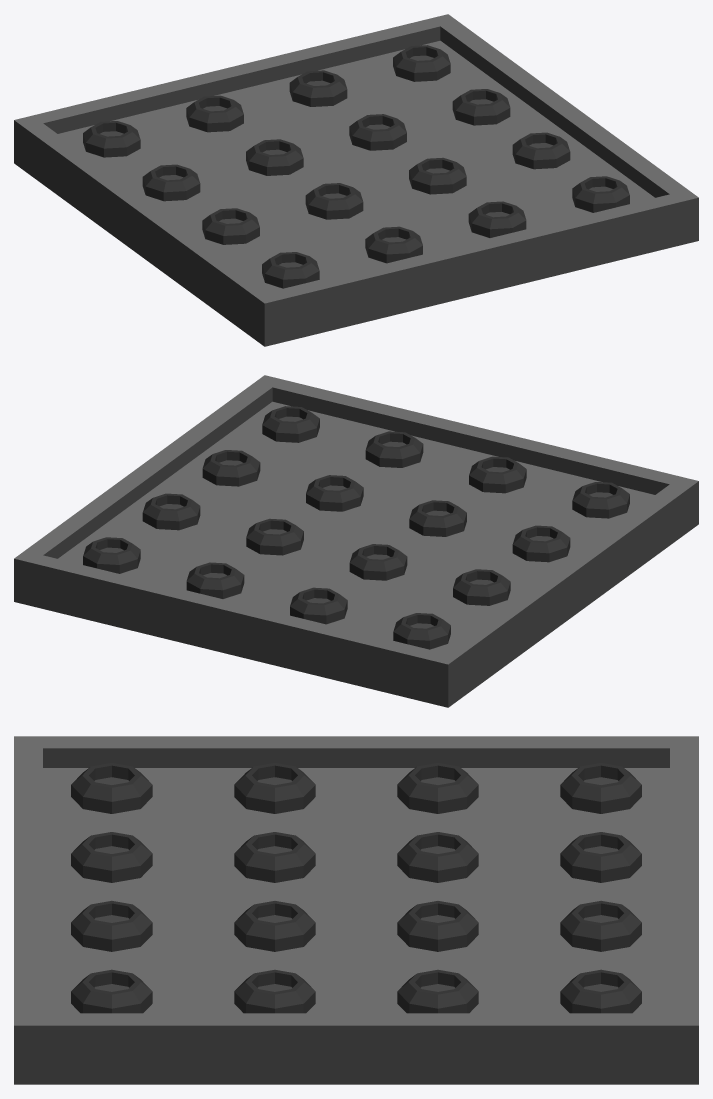
File: trapSpikes_type_01.fbx
3 views of the same model, one above another, from view 1: azimuth 30°, elevation 25°; view 2: azimuth 150°, elevation 25°; view 3: azimuth 270°, elevation 25° (orthographic). The views are drawn at different scales.
Visible parts, largest first — view 1: trapSpikes_type_01; view 2: trapSpikes_type_01; view 3: trapSpikes_type_01.
Boxes of the visible parts, left/top/right/bottom form: trapSpikes_type_01: left=14, top=14, right=698, bottom=346; trapSpikes_type_01: left=14, top=375, right=698, bottom=707; trapSpikes_type_01: left=14, top=736, right=698, bottom=1084.
Bounding box in the file's own units: 101 × 9.94 × 101.
